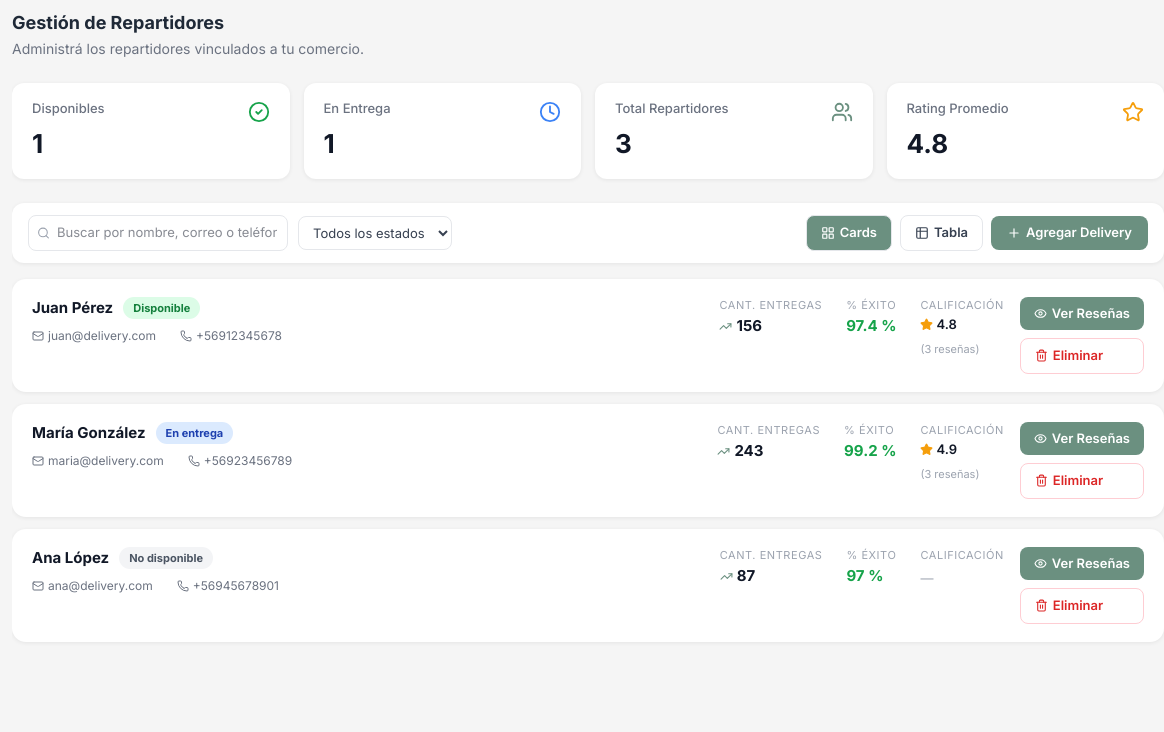
Scenario: CommerceDeliveriesPage › Vista Tabla › cambia a vista tabla al hacer clic en el botón Tabla
The width and height of the screenshot is (1164, 732).
Click the button "Tabla" at (942, 233), box [900,215,983,251]
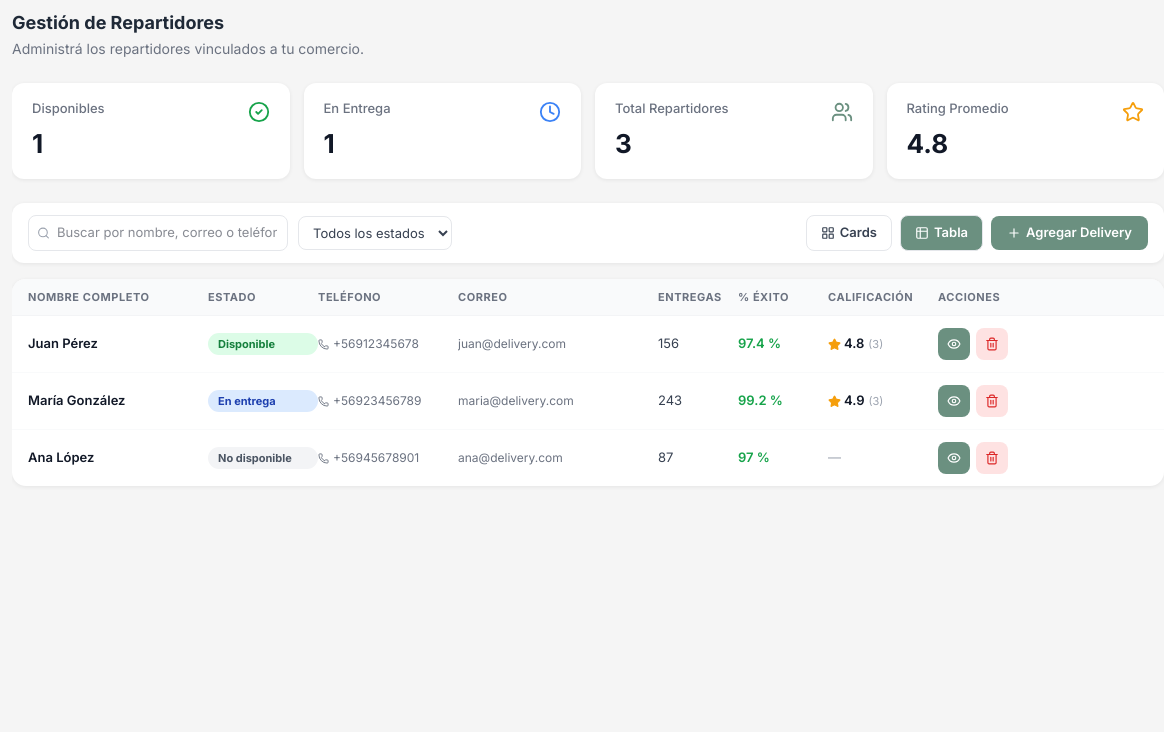
Check: the text "Nombre Completo" is shown, box [28,290,150,304]
Check: the text "Estado" is shown, box [208,290,256,304]
Check: the text "Teléfono" is shown, box [318,290,381,304]
